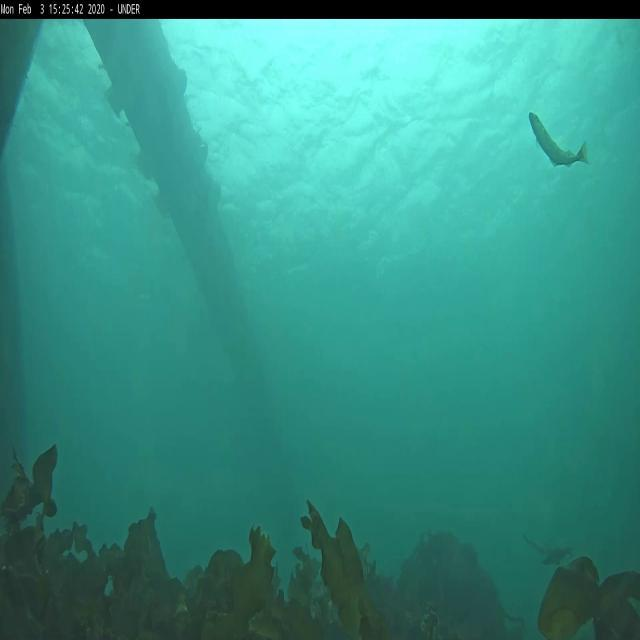fish: (529, 112, 589, 172), (522, 533, 550, 556), (544, 554, 572, 564)
